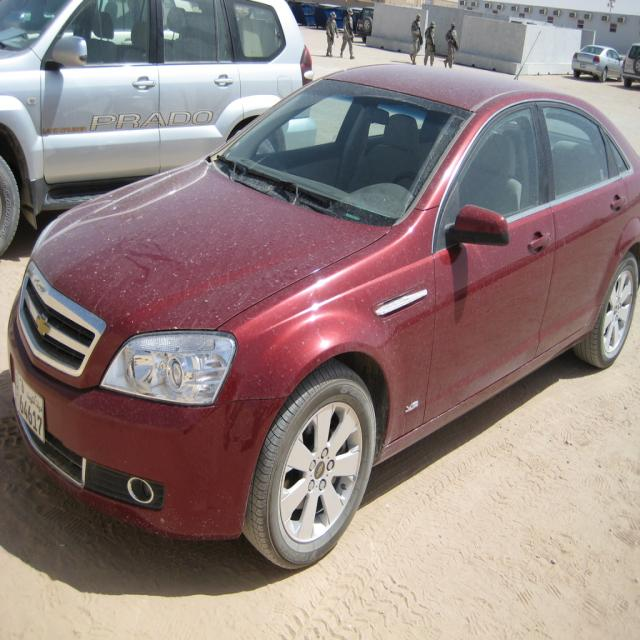car: (6, 29, 639, 570)
